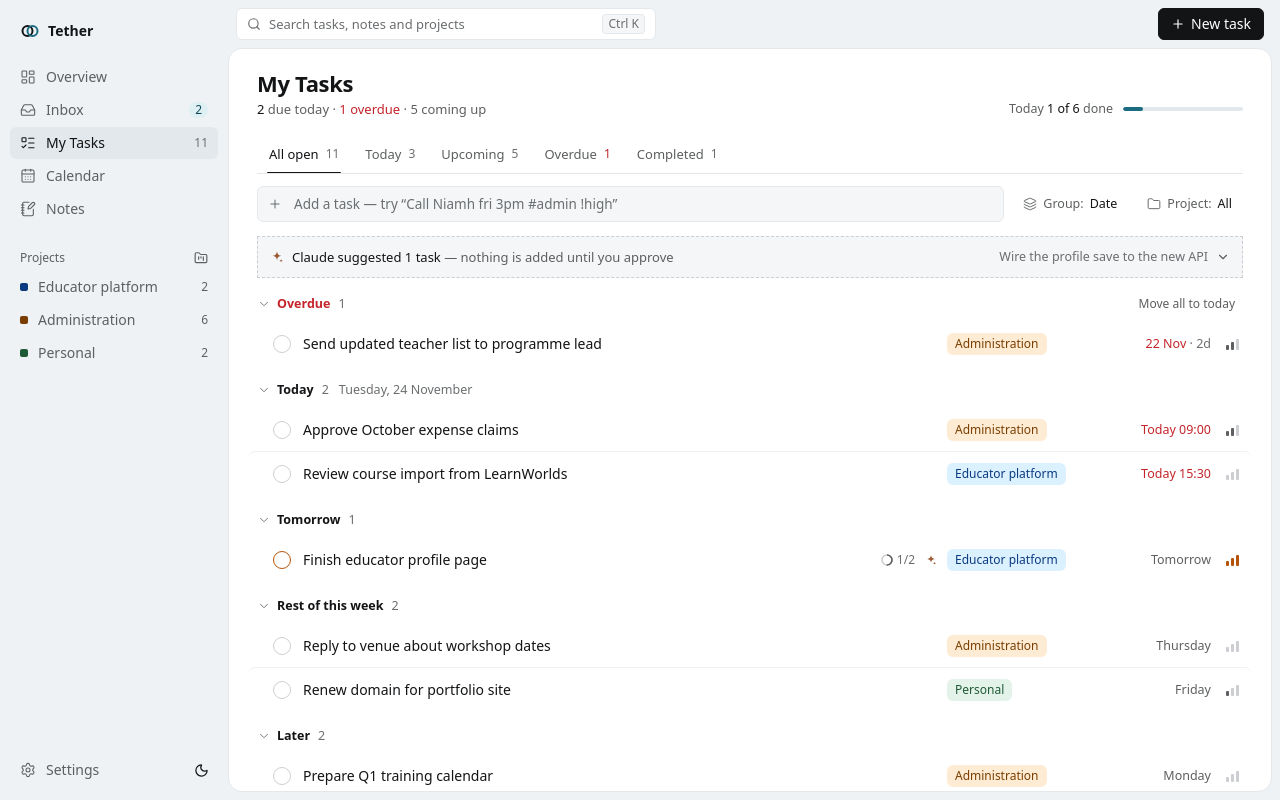
Repeating task › completing it in My Tasks says when the next one is due
Click the button named "Complete \"Review course import": (282, 474) [273,465,291,483]
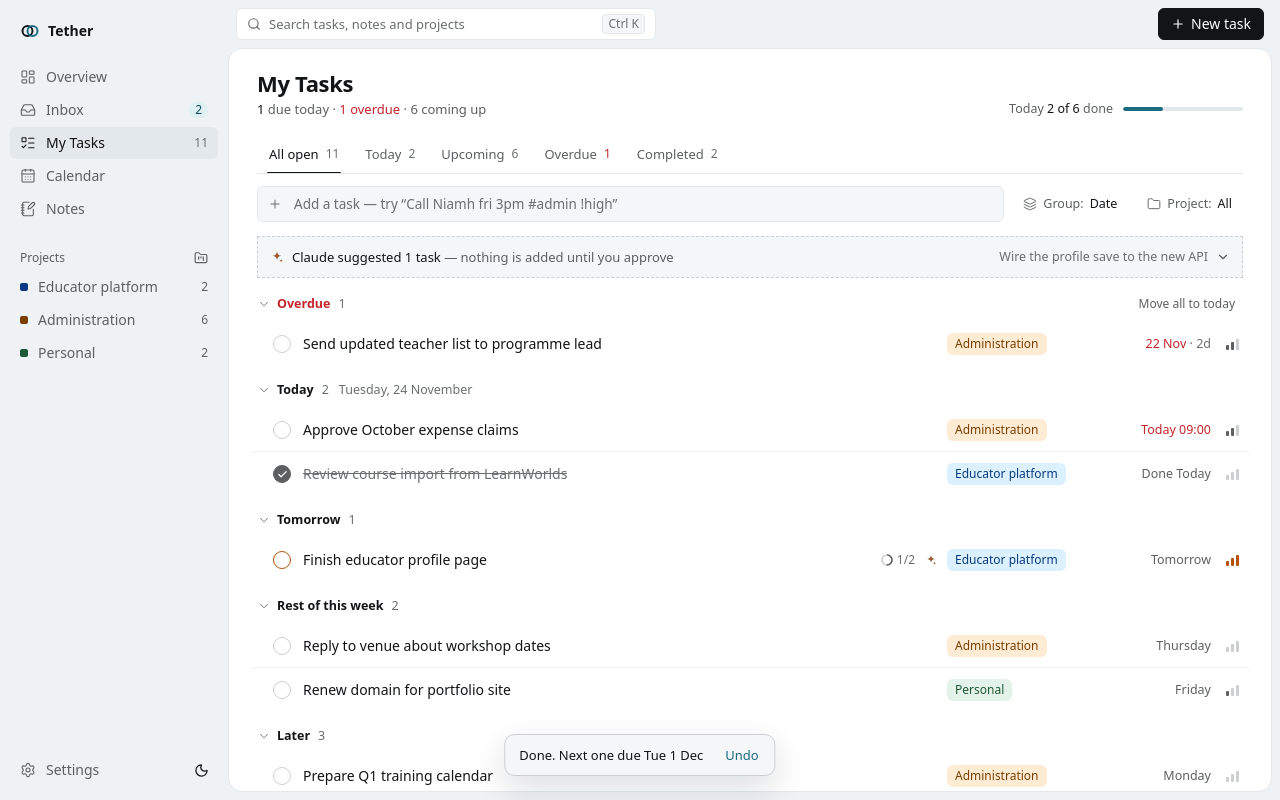
Check: the text "Done. Next one due Tue 1 Dec" is shown, box [519,745,703,765]
